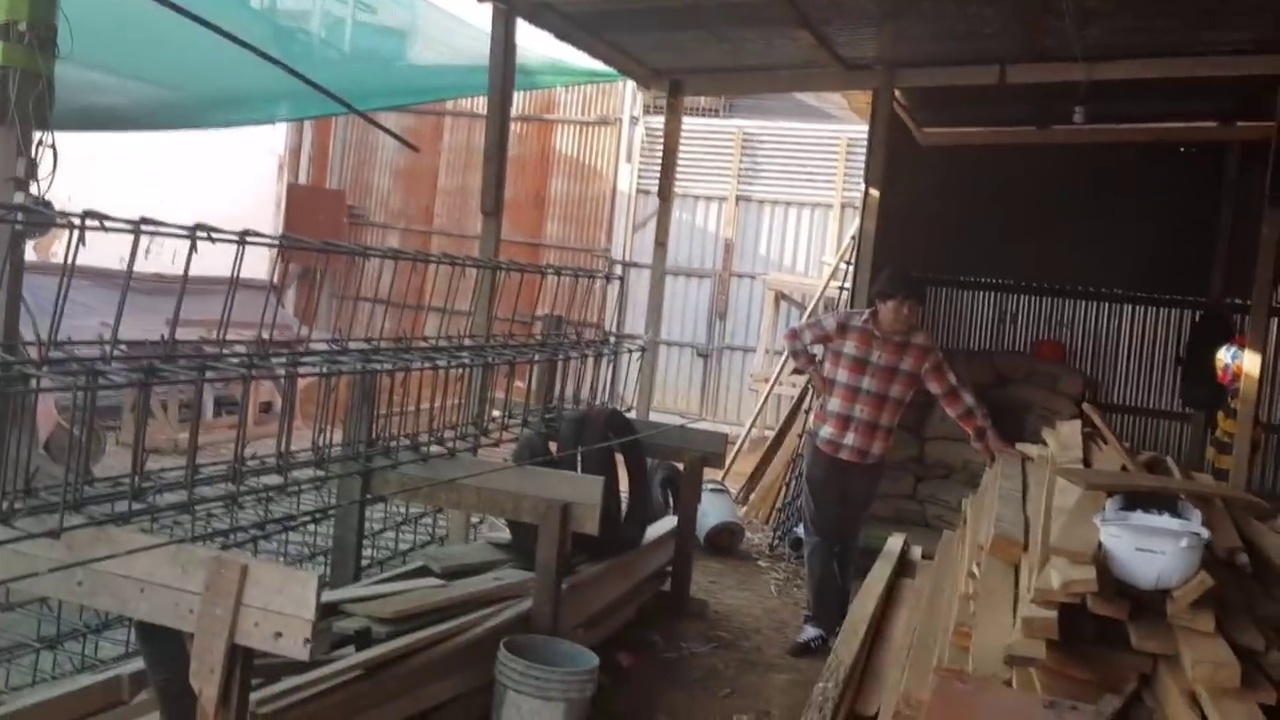helmet: (1092, 507, 1210, 593)
helmet-off: (866, 272, 931, 344)
person: (778, 267, 1005, 653), (0, 0, 52, 261)
